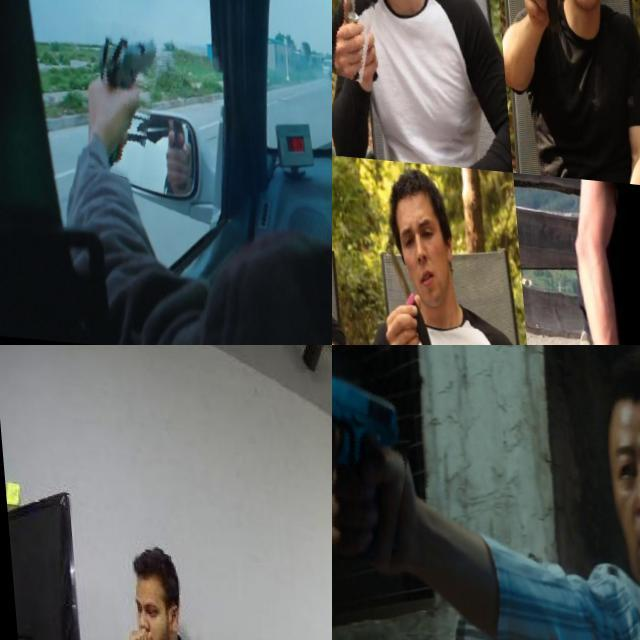-: (376, 234, 428, 345), (332, 0, 386, 84), (531, 0, 564, 57)
gun-knife-thesis - v11 Yolov5 augmented: (332, 345, 423, 562), (81, 18, 159, 178)
